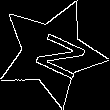N_NW: (20, 24, 83, 82)
